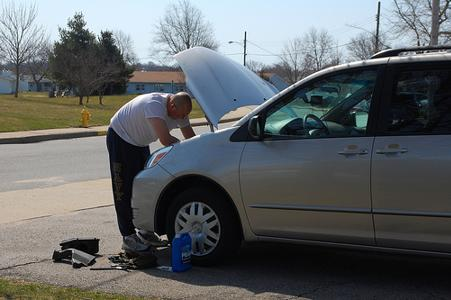person: (105, 91, 203, 252)
